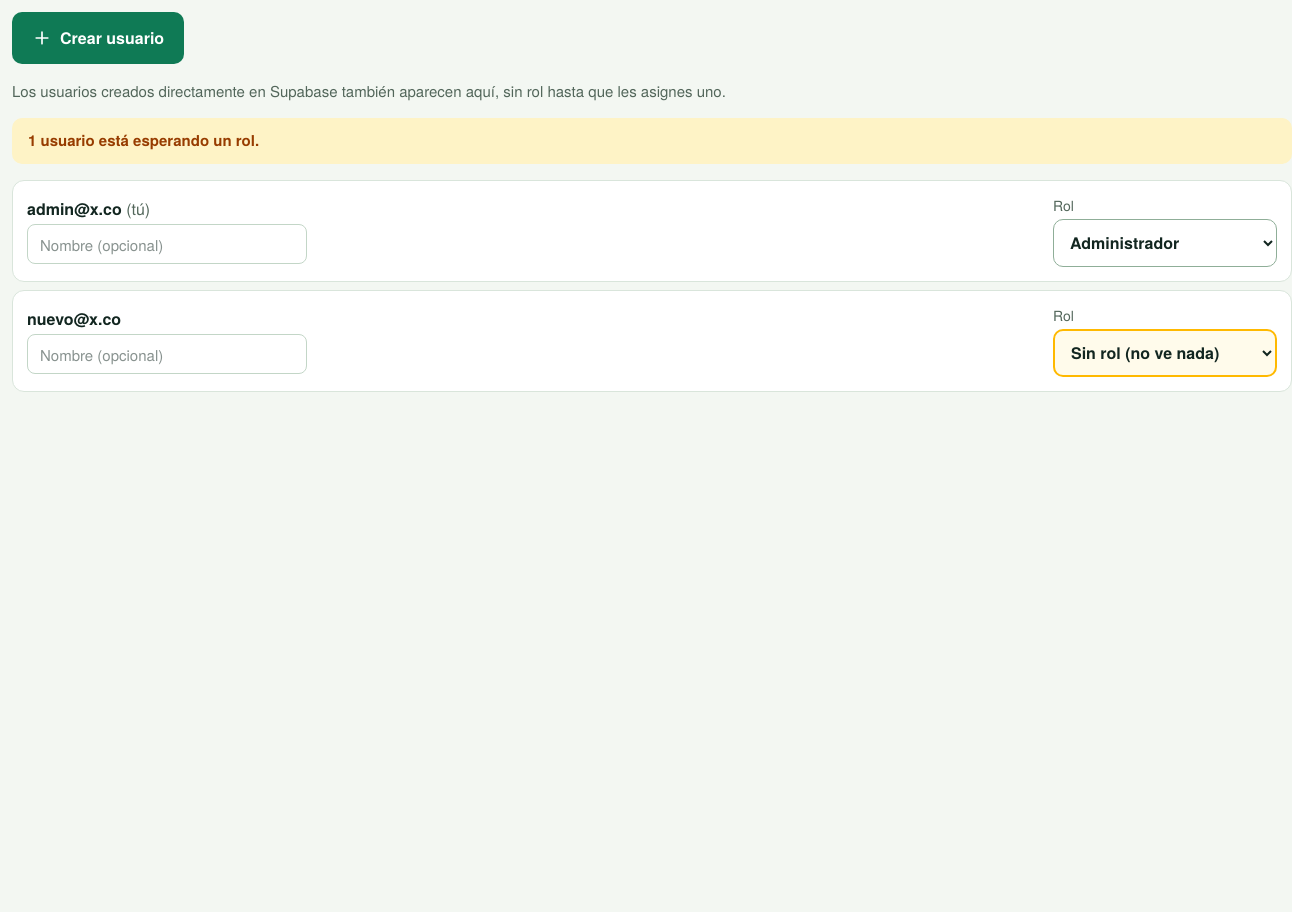
Test: Crear usuario › crea el usuario con su rol y muestra los datos para compartir
This screenshot has width=1292, height=912.
Click the button "Crear usuario": (98, 38) [12,12,184,64]
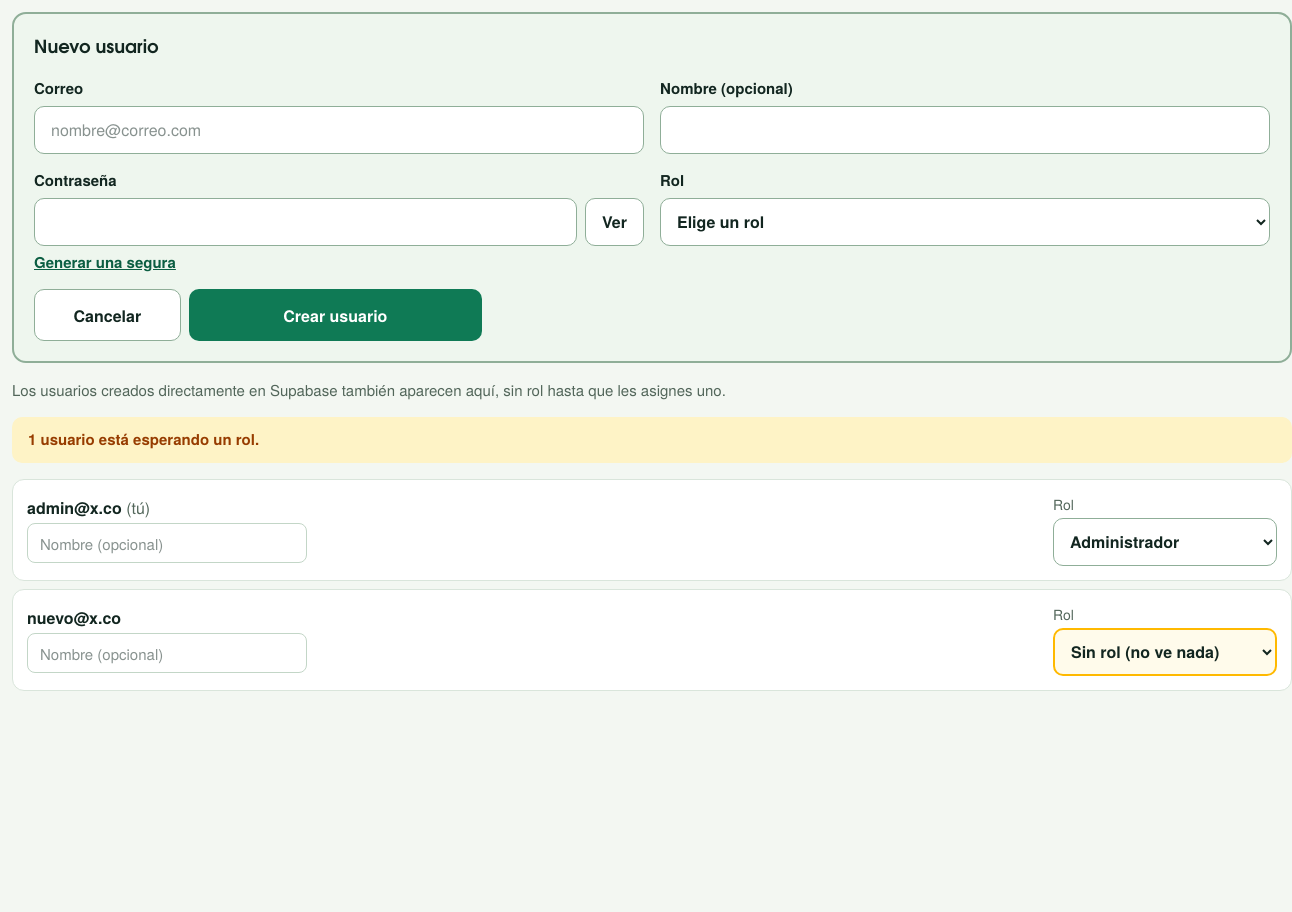
In the field labelled "Correo": (339, 130) [34,106,644,154], type "Pedro@Correo.com "
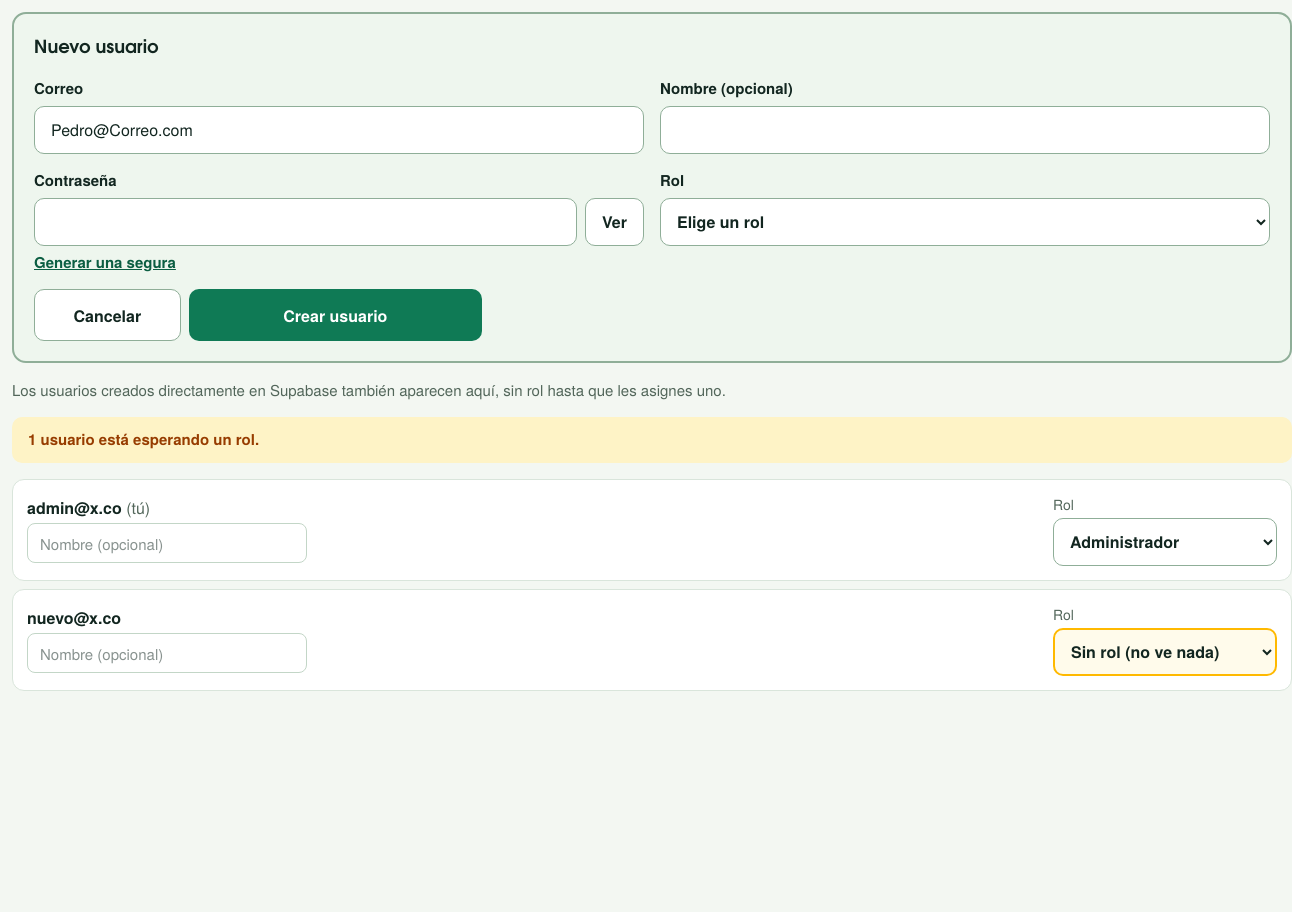
In the 1st field labelled "Nombre (opcional)": (965, 130) [660,106,1270,154], type "Pedro"
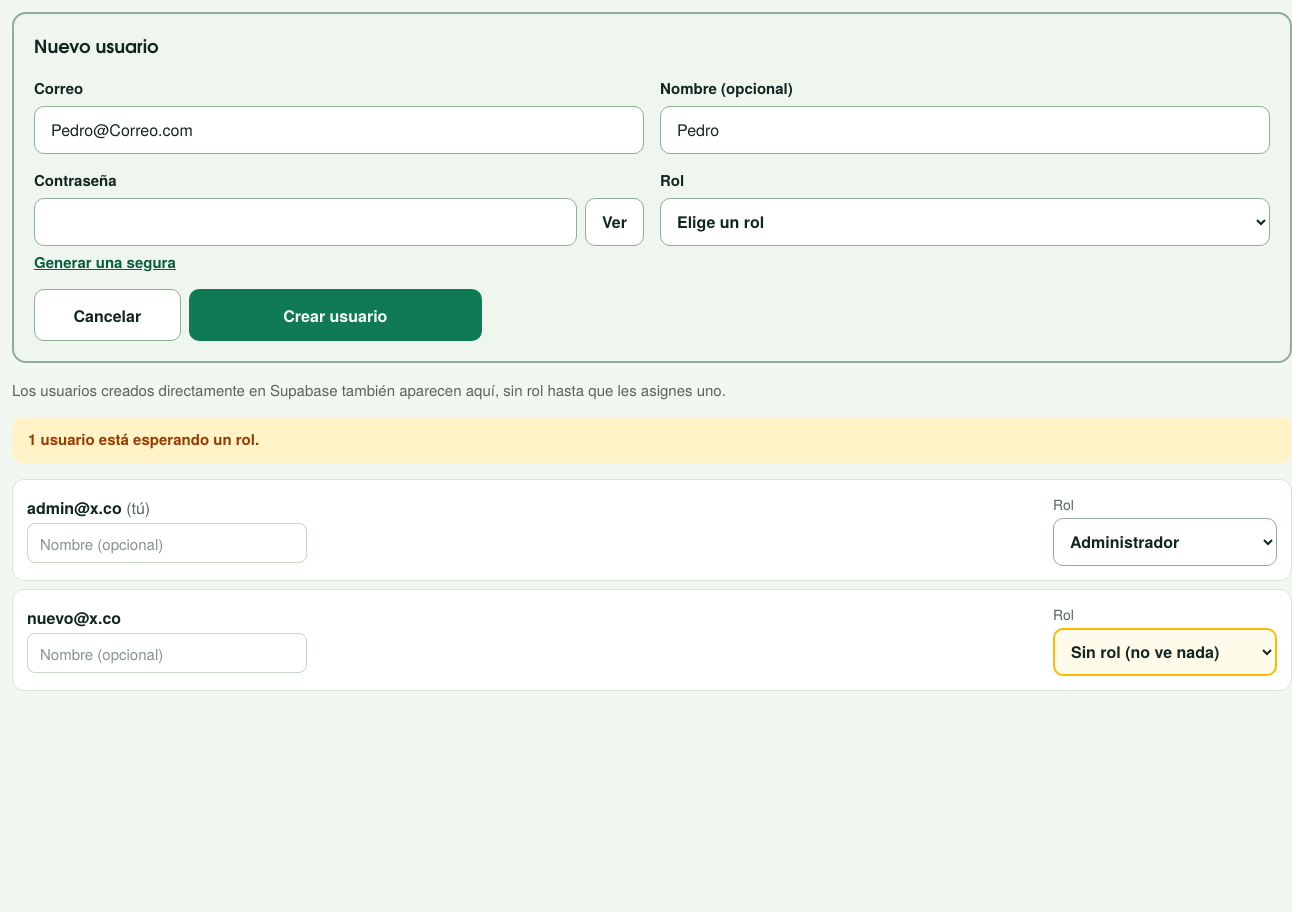
In the password field labelled "Contraseña": (305, 222) [34,198,577,246], type "cafe-2026"
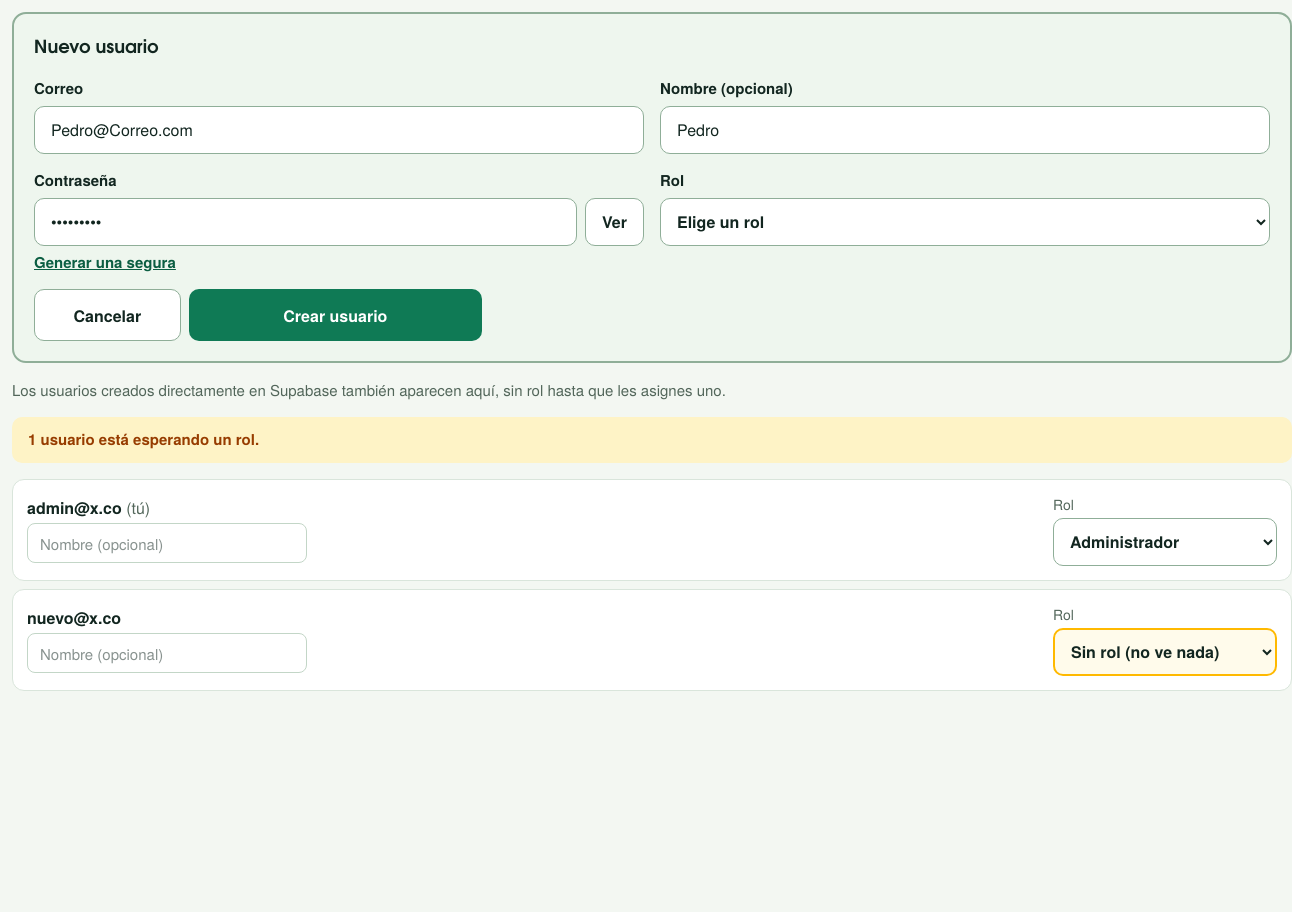
Select "Tostador" in the dropdown labelled "Rol" below "Nombre (opcional)": (965, 222) [660,198,1270,246]
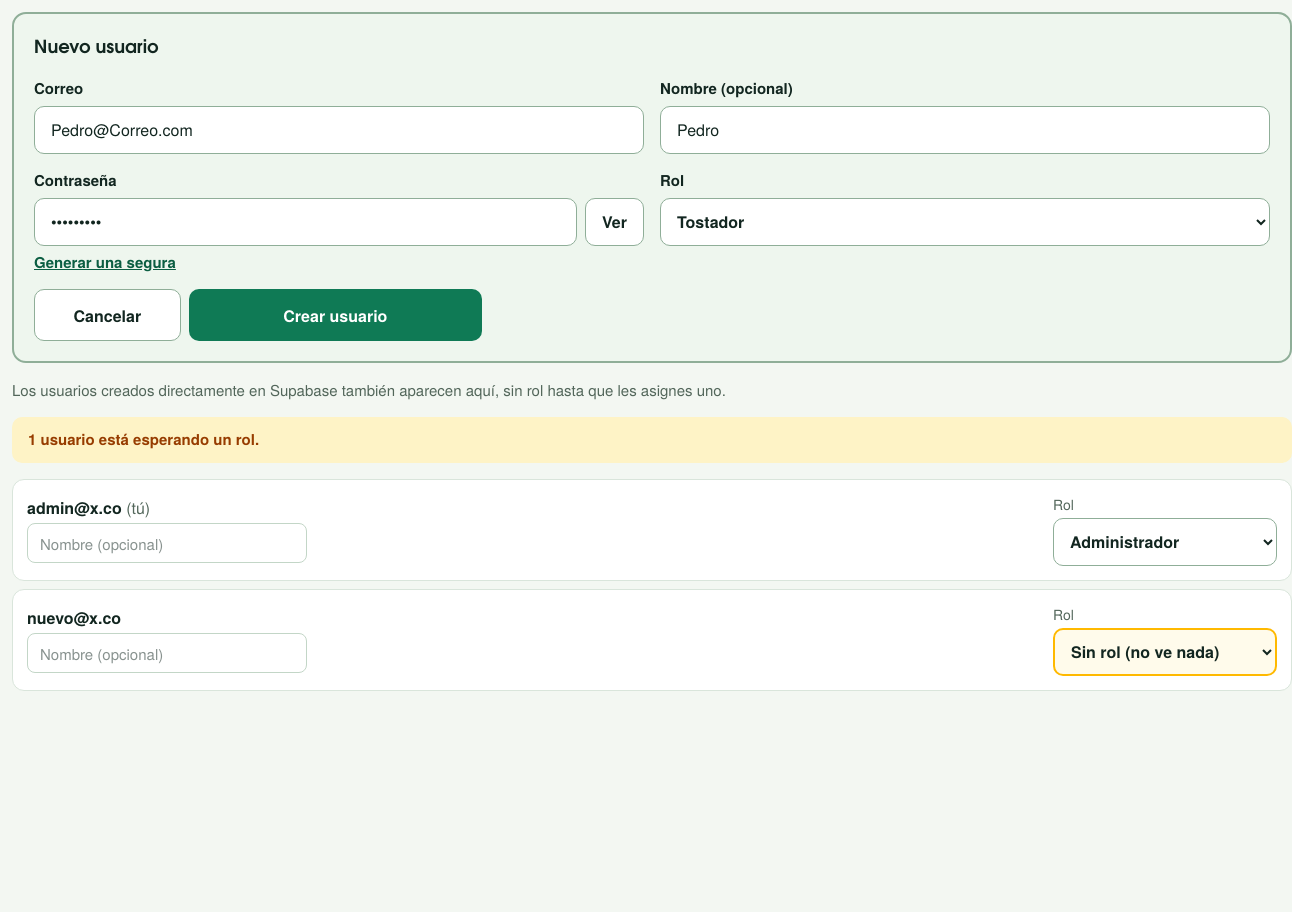
Click the button "Crear usuario": (335, 315) [189,289,482,341]
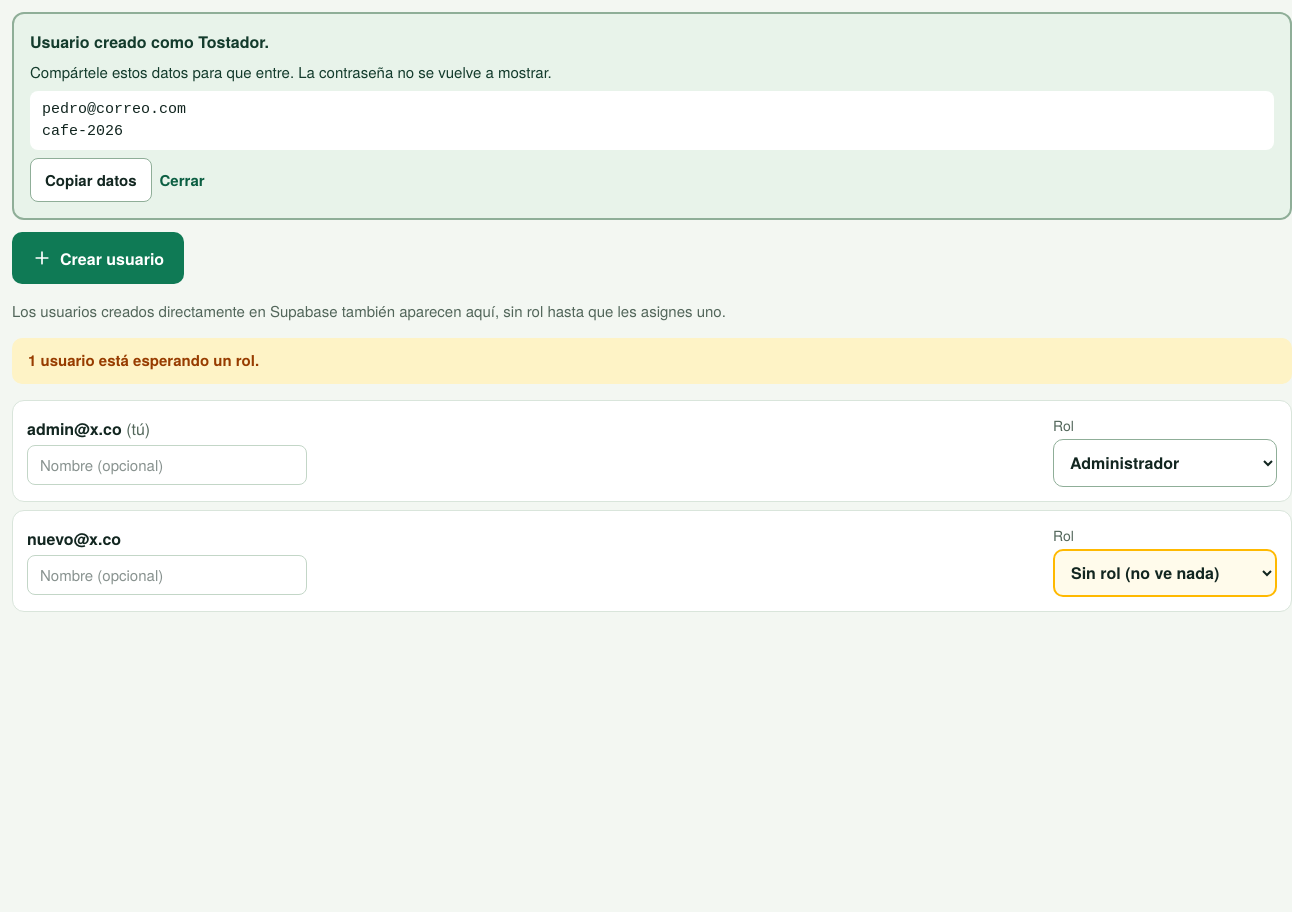
Expected: the text "Usuario creado como Tostador." is shown, [30,30,269,53]
Expected: the message shows "pedro@correo.com", [42,101,186,118]
Expected: the message shows "cafe-2026", [42,123,123,140]
